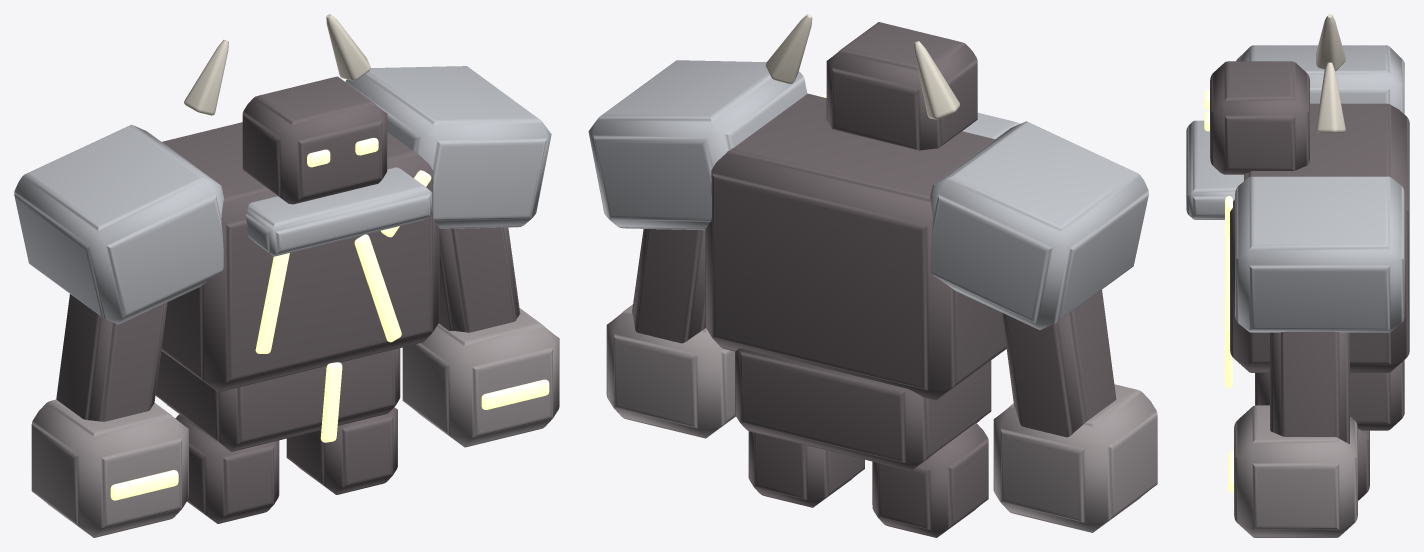
File: EN_Ember_CinderBrute_S.fbx
The picture shows the model from 3 angles, left to right: view 1: azimuth 30°, elevation 25°; view 2: azimuth 150°, elevation 25°; view 3: azimuth 270°, elevation 25°; orthographic projection. The views are drawn at different scales.
Visible parts, largest first — view 1: EN_Ember_CinderBrute_S; view 2: EN_Ember_CinderBrute_S; view 3: EN_Ember_CinderBrute_S.
Boxes of the visible parts, x1,y1,x2,y2 form: EN_Ember_CinderBrute_S: (14,14,559,537); EN_Ember_CinderBrute_S: (588,14,1157,537); EN_Ember_CinderBrute_S: (1186,14,1409,537).
Size of the model in its own units: 2.62 by 2.37 by 1.12.
